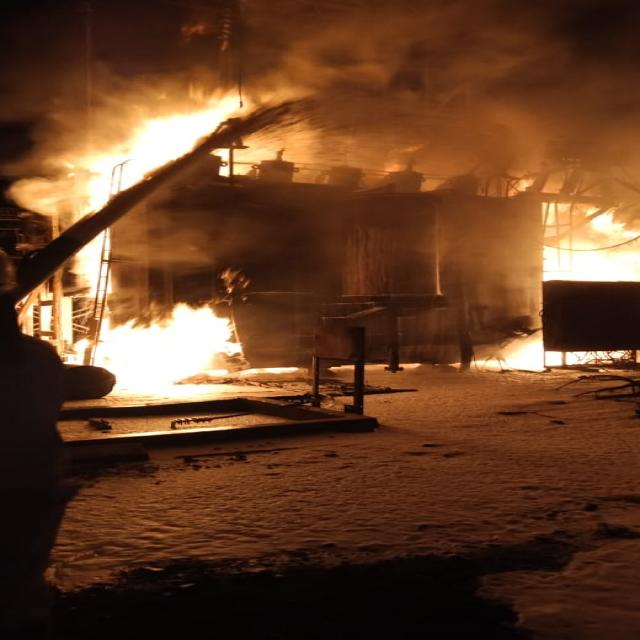firerotation: (0, 72, 639, 386)
